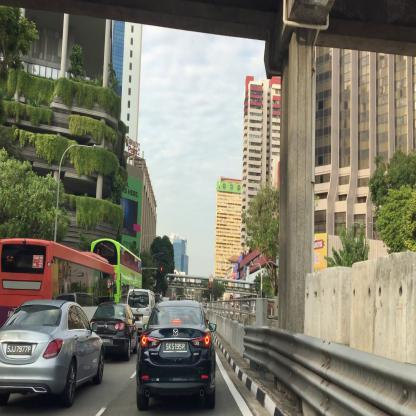red_traffic_light: (158, 267, 162, 270), (210, 283, 211, 294)
